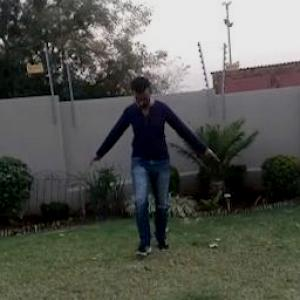land: (67, 64, 213, 284)
